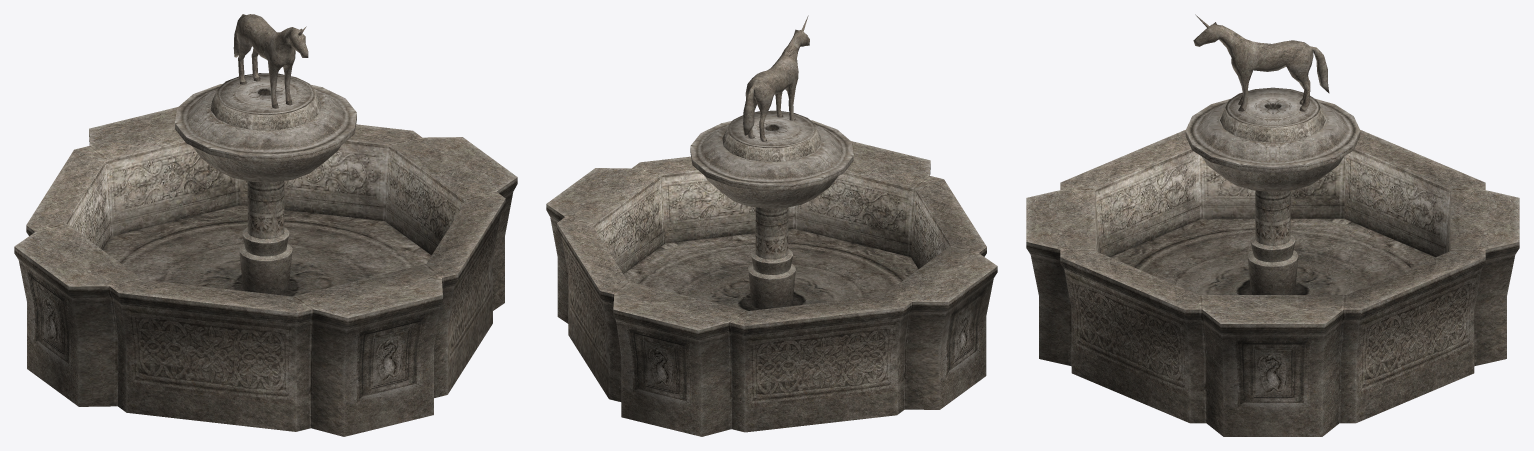
File: Ornate_Fountain.dae
3 renders of one model, left to right at view 1: azimuth 30°, elevation 25°; view 2: azimuth 150°, elevation 25°; view 3: azimuth 270°, elevation 25°, orthographic. The views are drawn at different scales.
Parts seen in each view (by area): view 1: Fountain; view 2: Fountain; view 3: Fountain.
Part boxes in pixels (<box>): Fountain: <box>14,14,517,436</box>; Fountain: <box>546,15,997,436</box>; Fountain: <box>1026,14,1519,436</box>.
Bounding box in the file's own units: 3.36 × 2.44 × 3.36.
Materials: 1 (1 with a texture image).
